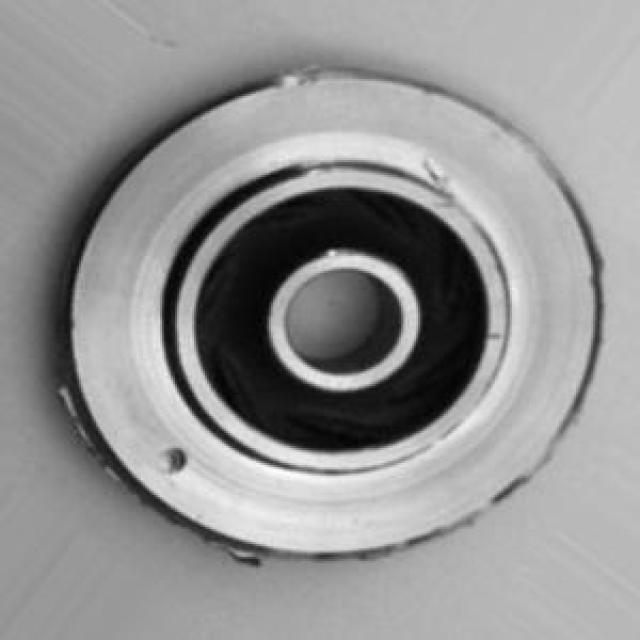Defect: (155, 445, 192, 480)
